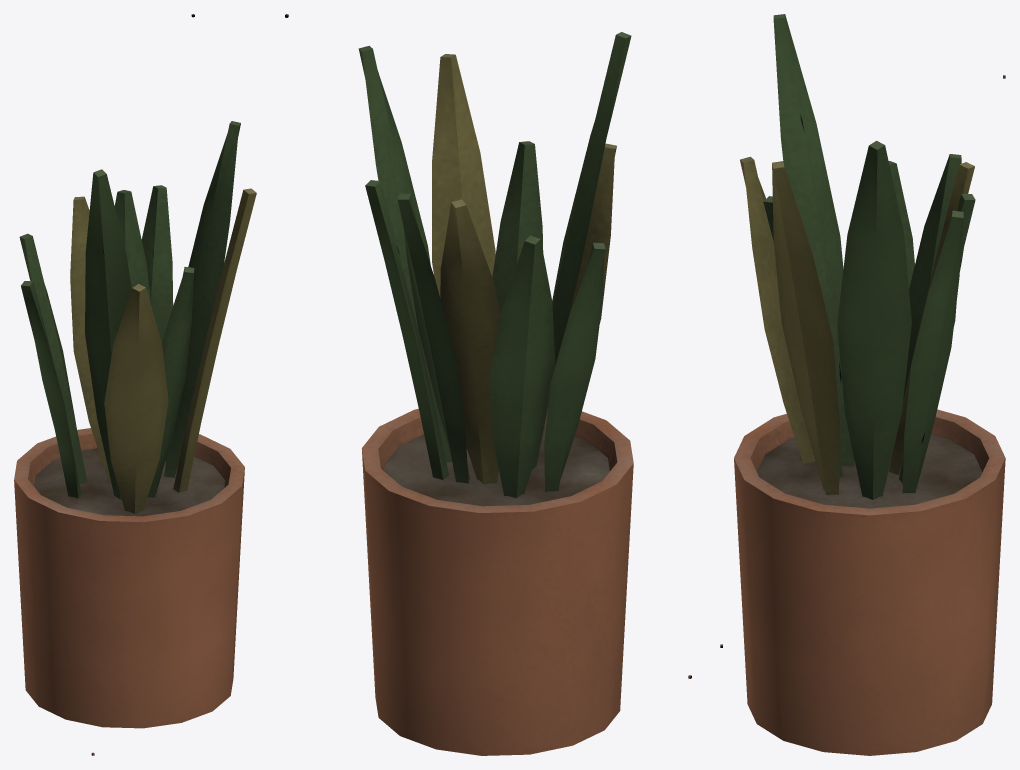
The model's file is H_PlantSnake.fbx.
3 renders of one model, left to right at view 1: azimuth 30°, elevation 25°; view 2: azimuth 150°, elevation 25°; view 3: azimuth 270°, elevation 25°, orthographic. The views are drawn at different scales.
Visible parts, largest first — view 1: H_PlantSnake; view 2: H_PlantSnake; view 3: H_PlantSnake.
Part boxes in pixels (bbox=[...]): H_PlantSnake: bbox=[14, 14, 256, 755]; H_PlantSnake: bbox=[285, 14, 691, 755]; H_PlantSnake: bbox=[720, 14, 1005, 755].
Bounding box in the file's own units: 111 × 283 × 105.
1 material, 1 textured.
